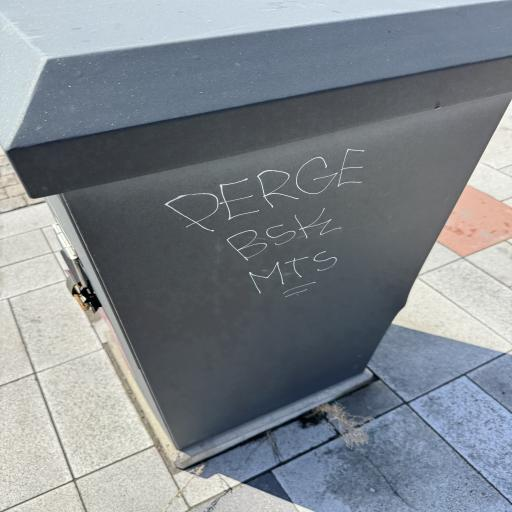Electrical Box: (5, 0, 512, 450)
